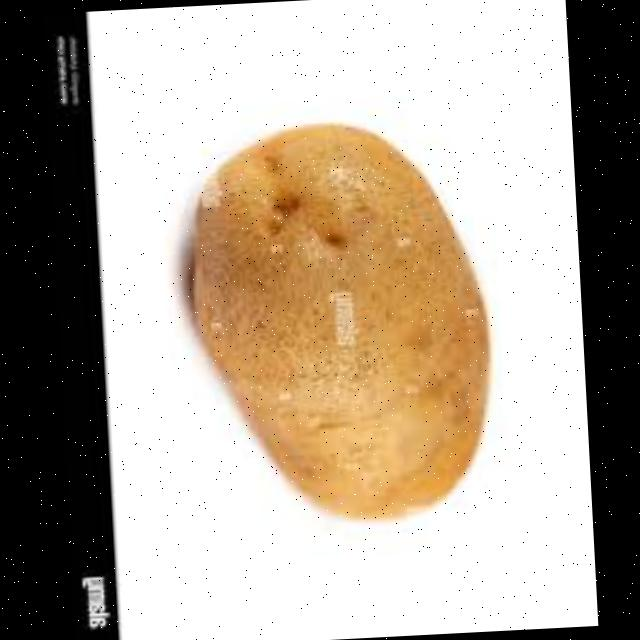Potato: (175, 131, 502, 534)
